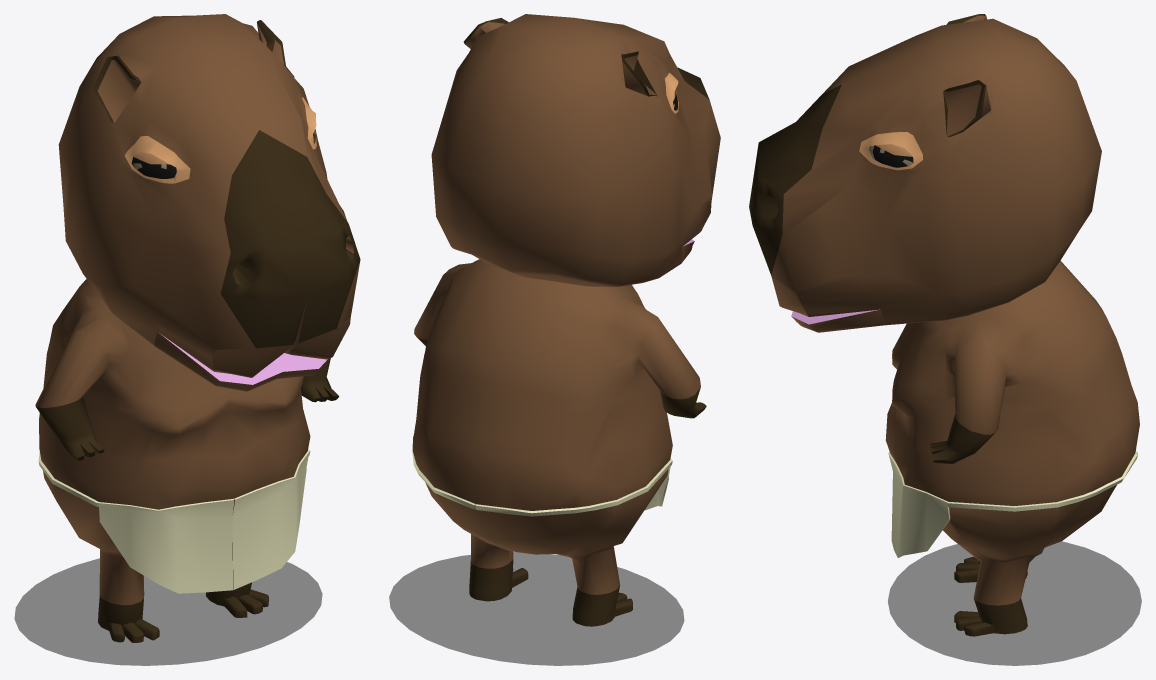
Rendered from nukumal.glb.
3 views of the same model, side by side, from view 1: azimuth 30°, elevation 25°; view 2: azimuth 150°, elevation 25°; view 3: azimuth 270°, elevation 25° (orthographic). The views are drawn at different scales.
Parts seen in each view (by area): view 1: body.001, 円; view 2: body.001, 円; view 3: body.001, 円.
Boxes of the visible parts, x1,y1,x2,y2 form: body.001: [35, 14, 360, 642]; 円: [14, 558, 322, 665]; body.001: [412, 14, 720, 626]; 円: [389, 552, 684, 665]; body.001: [749, 14, 1139, 636]; 円: [888, 541, 1141, 665].
Size of the model in its own units: 0.9182 by 1.78 by 1.12.
